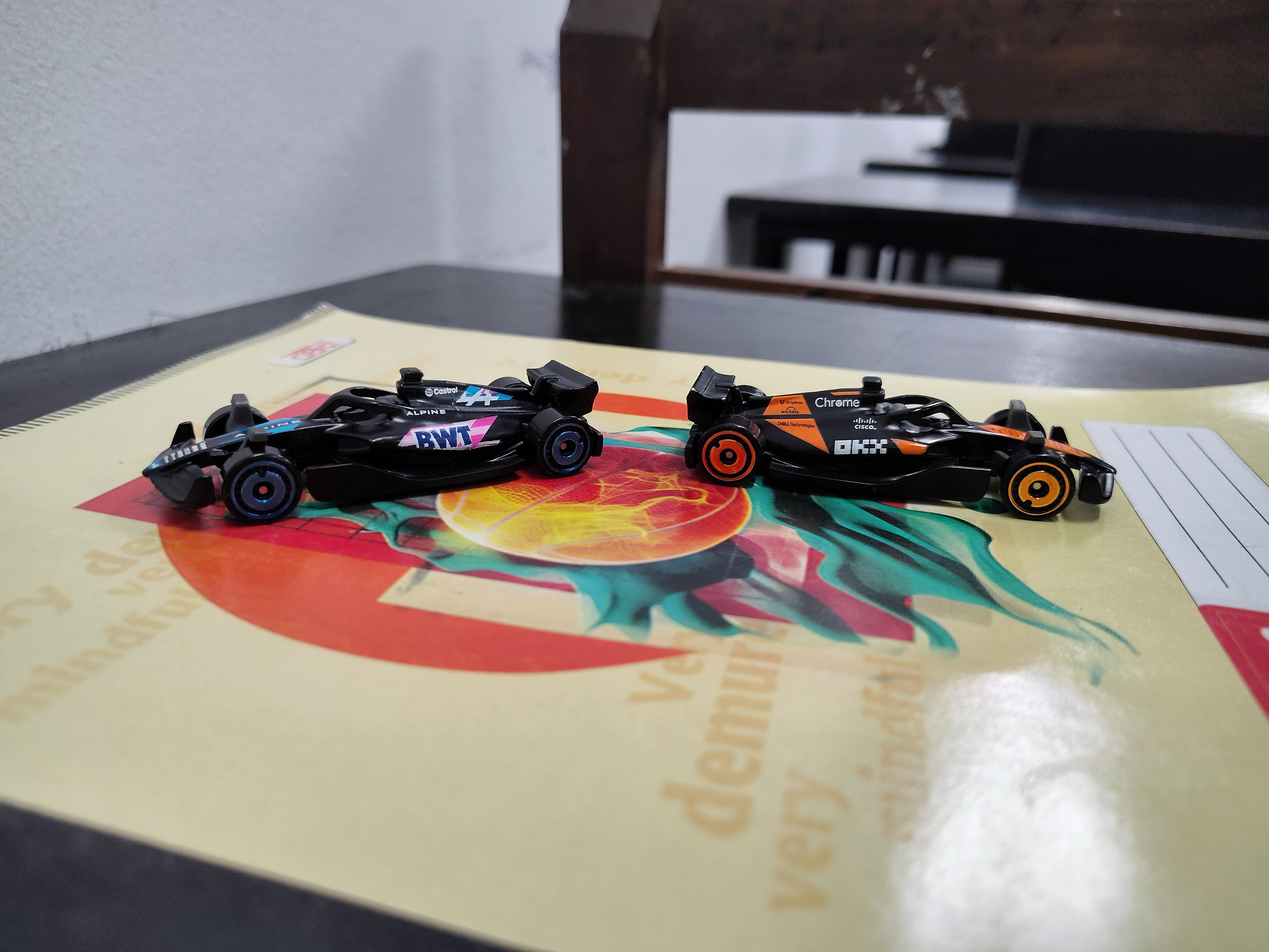Alpine A524: (94, 338, 629, 514)
McLaren MCL40: (685, 330, 1112, 528)
